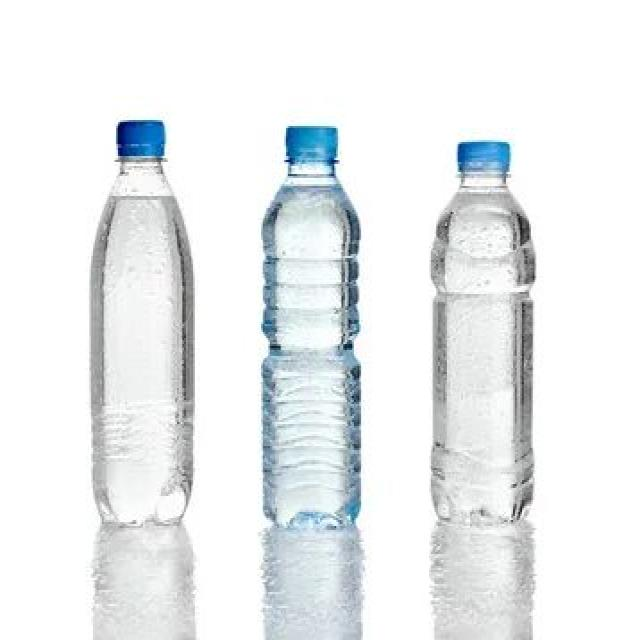blue: (260, 165, 360, 537)
